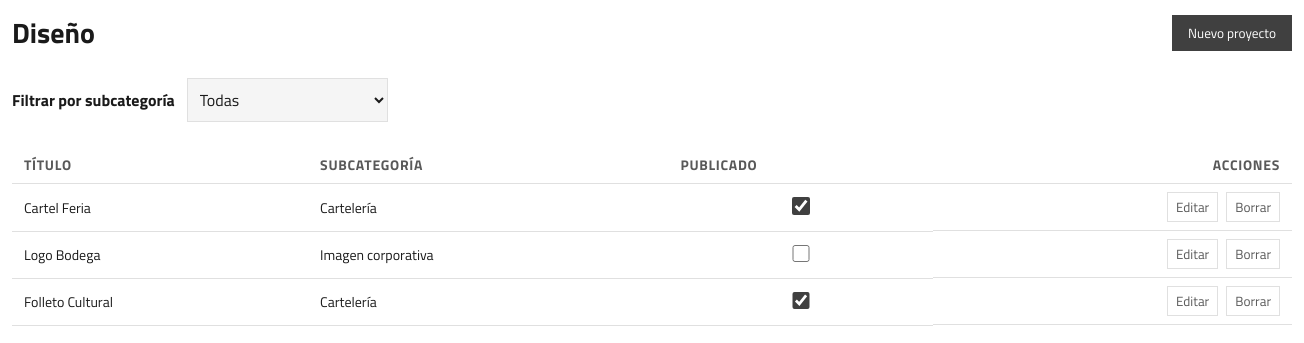
Test case: AdminDesign › filtra la lista por subcategoría vía query del server
Expected: the cell "Cartel Feria" is shown, [12, 184, 308, 231]
Select "Cartelería" in the dropdown labelled "Filtrar por subcategoría" at point(287, 100), box [187, 78, 388, 122]
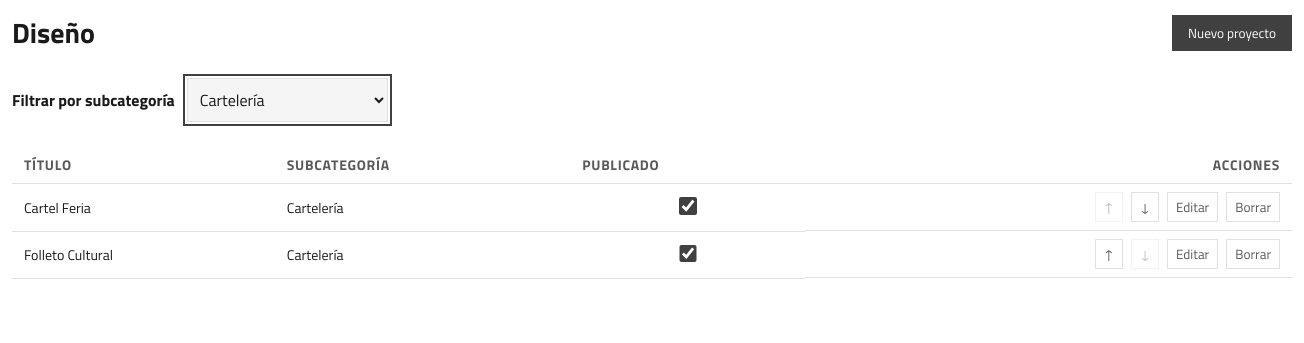
Expected: the cell "Cartel Feria" is shown, [12, 184, 275, 231]
Now the cell "Logo Bodega" is gone
Select "Todas" in the dropdown labelled "Filtrar por subcategoría" at point(287, 100), box [187, 78, 388, 122]
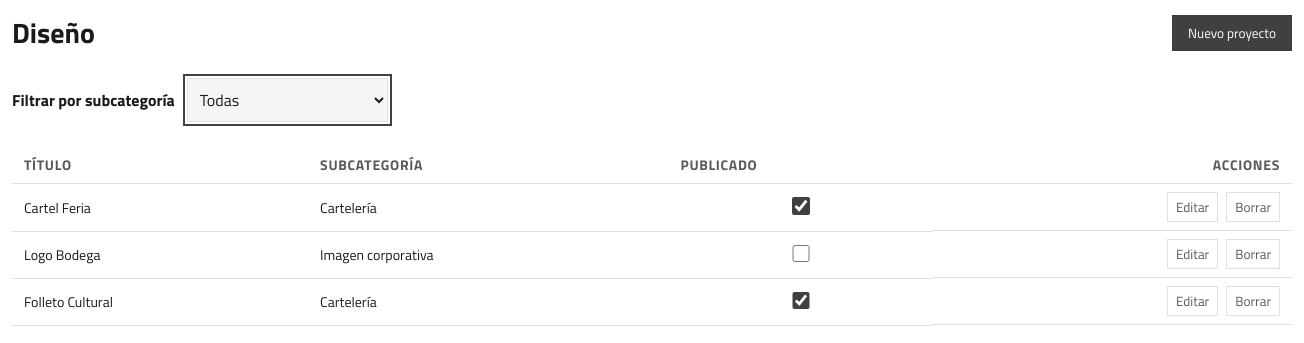
Now the cell "Logo Bodega" is shown, box [12, 231, 308, 278]
